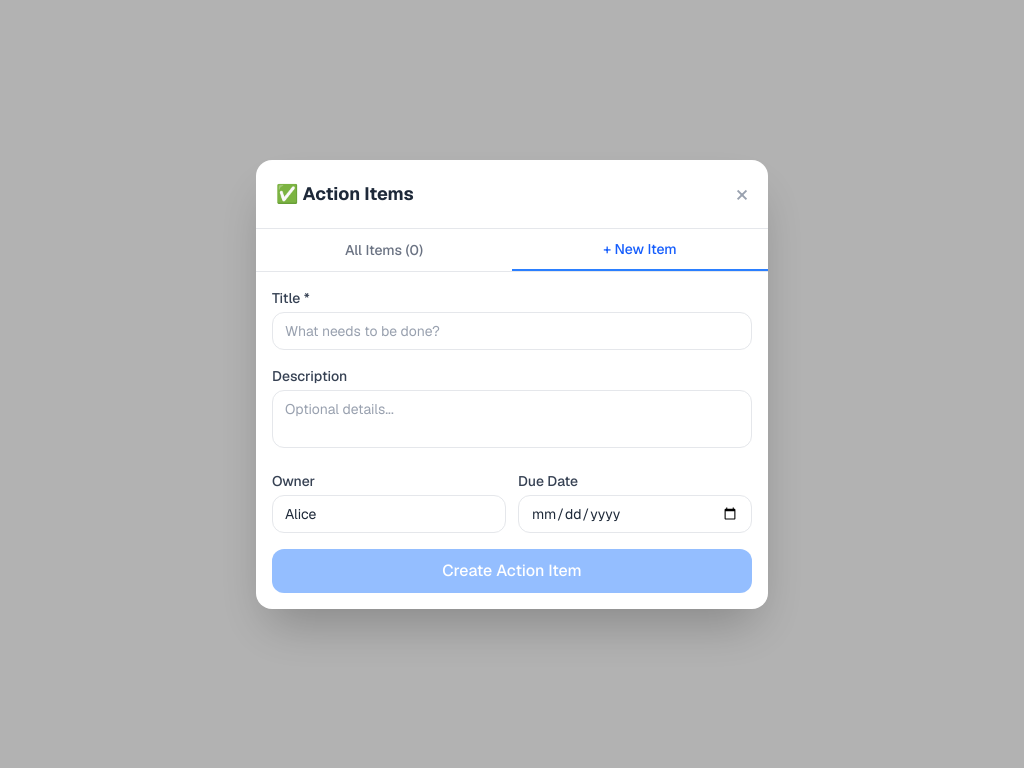
Test: ActionItemModal — tab switching › switches back to list when "All Items" tab is clicked from create
Click the button "All Items (0)" at (384, 250), box [256,228,512,270]
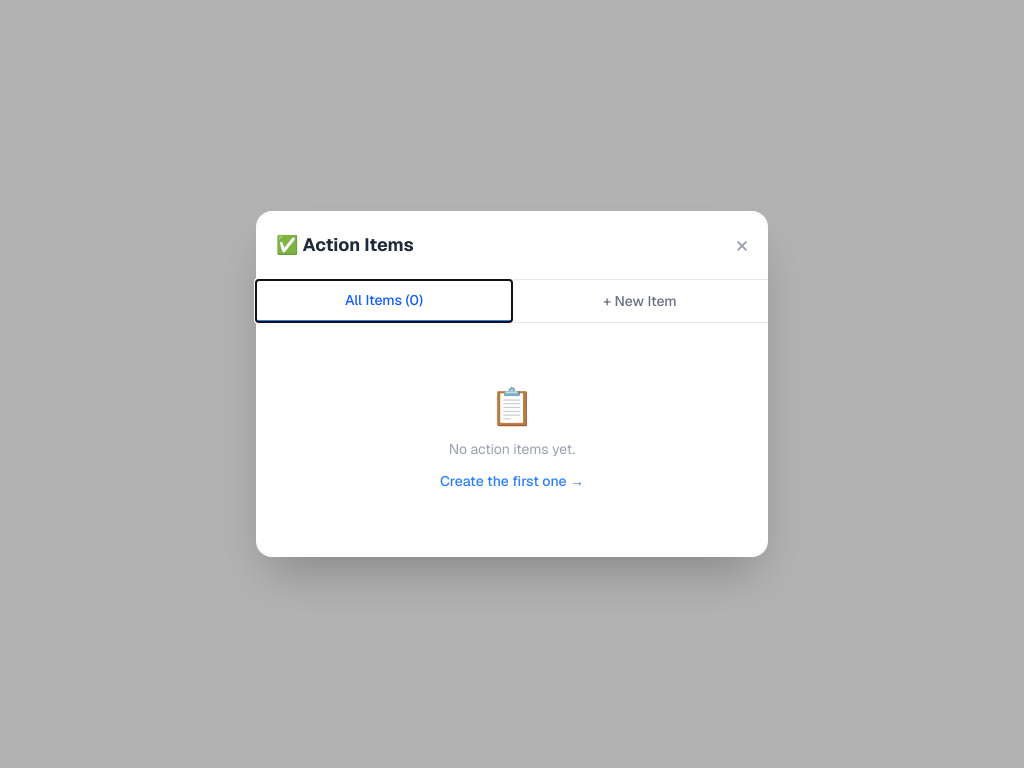
Result: the text "No action items yet." is shown at [449,440,575,458]
